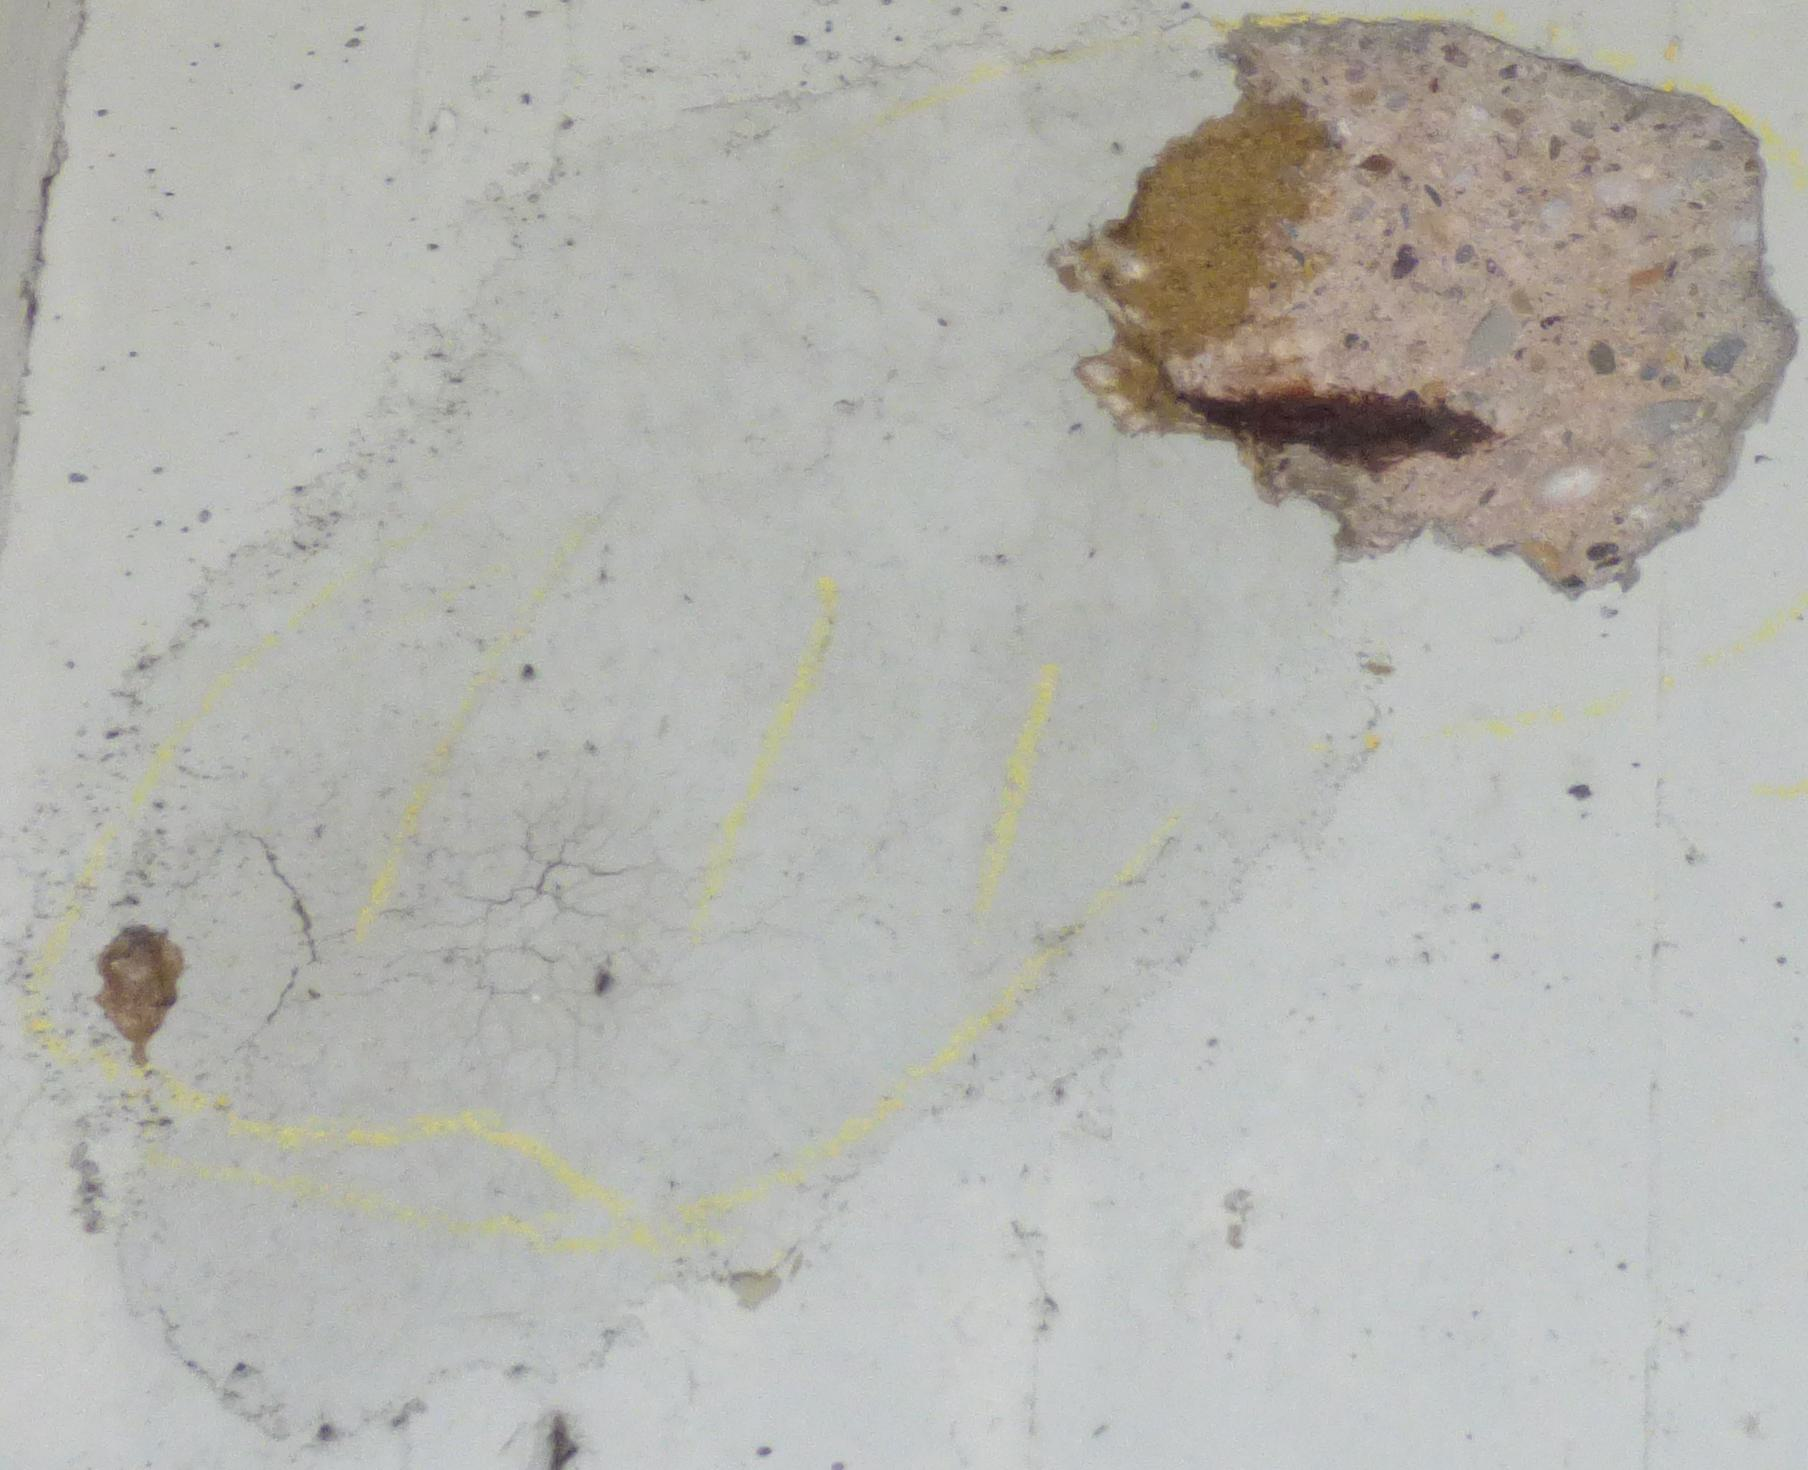Exposed reinforcement: (1167, 382, 1505, 474)
Spalling: (1046, 12, 1800, 604), (90, 922, 188, 1069)
